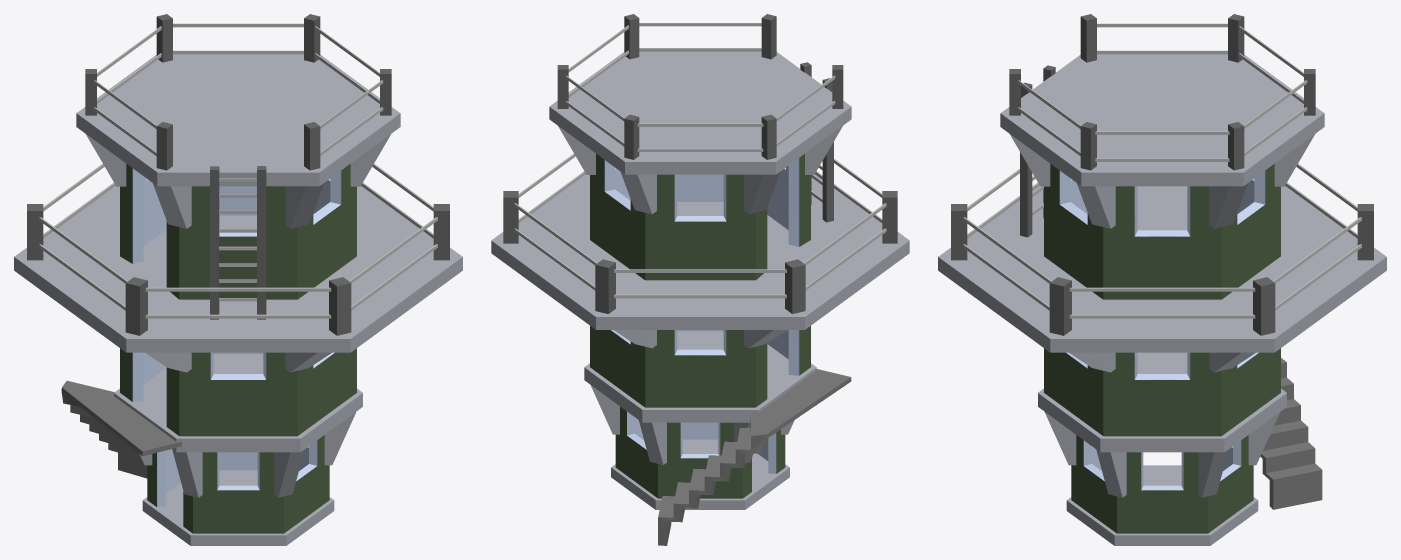
File: House soldi LV3.fbx
3 renders of one model, left to right at view 1: azimuth 30°, elevation 25°; view 2: azimuth 150°, elevation 25°; view 3: azimuth 270°, elevation 25°, orthographic. The views are drawn at different scales.
Visible parts, largest first — view 1: HouseSoldiLV3; view 2: HouseSoldiLV3; view 3: HouseSoldiLV3.
Boxes of the visible parts, <box> form: HouseSoldiLV3: <box>14,14,462,545</box>; HouseSoldiLV3: <box>491,14,909,545</box>; HouseSoldiLV3: <box>938,14,1386,545</box>.
Size of the model in its own units: 466 by 590 by 538.
